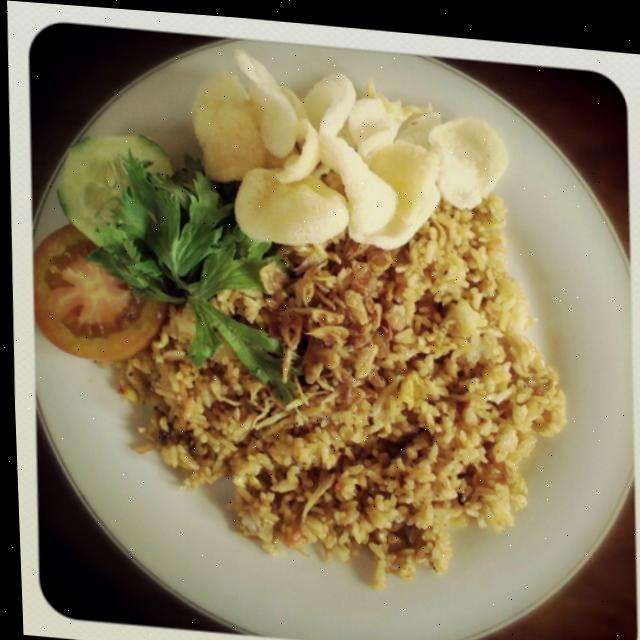米饭主食: (1, 41, 603, 590)
